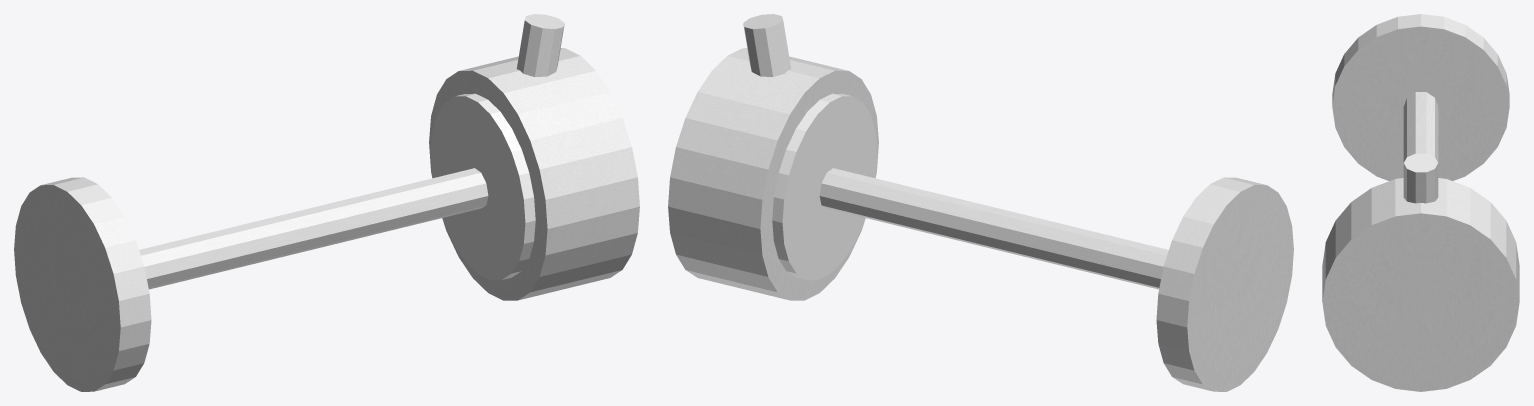
The model's file is archedwalkwaylight.obj.
3 views of the same model, side by side, from view 1: azimuth 30°, elevation 25°; view 2: azimuth 150°, elevation 25°; view 3: azimuth 270°, elevation 25° (orthographic). The views are drawn at different scales.
Visible parts, largest first — view 1: Metal, Base, Light0; view 2: Metal, Base, Light0; view 3: Metal, Base.
Boxes of the visible parts, x1,y1,x2,y2 form: Metal: [139, 14, 639, 300]; Base: [14, 177, 151, 391]; Light0: [430, 93, 535, 280]; Metal: [668, 14, 1168, 300]; Base: [1156, 177, 1293, 391]; Light0: [772, 93, 877, 280]; Metal: [1322, 92, 1519, 391]; Base: [1332, 14, 1509, 180].
Size of the model in its own units: 1 by 0.4859 by 0.4.
